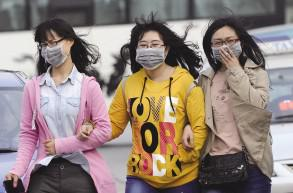OK: (137, 38, 170, 71), (212, 34, 243, 65), (42, 40, 70, 68)
